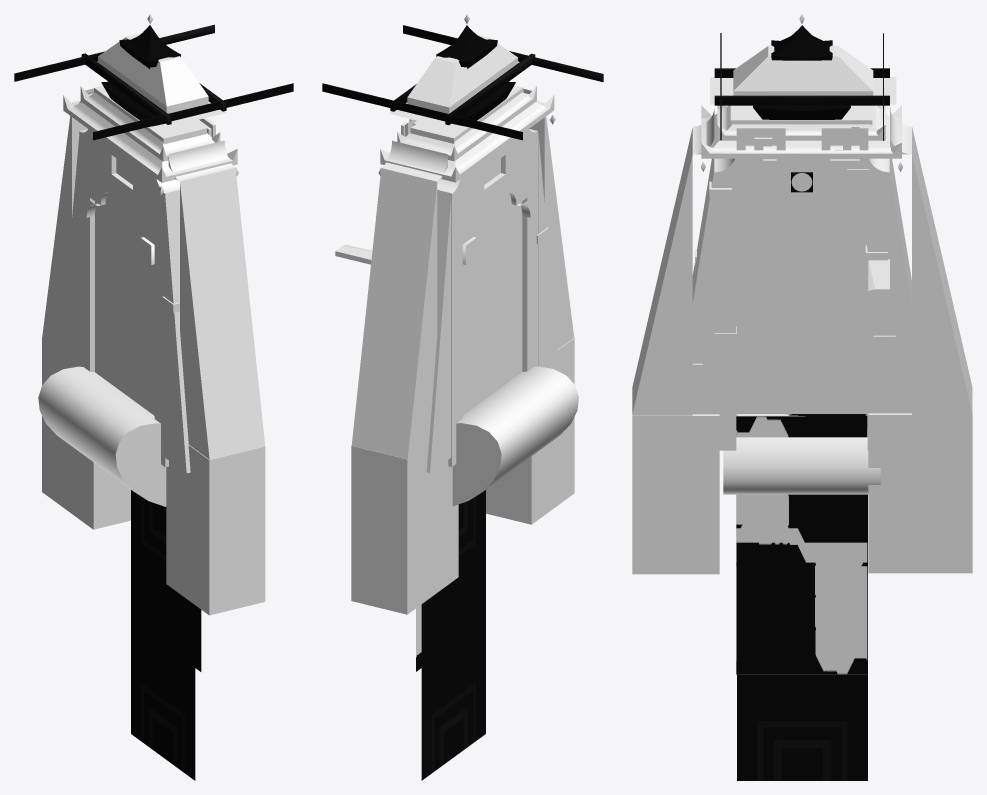
The model's file is SeaGate_ExitScene.fbx.
3 renders of one model, left to right at view 1: azimuth 30°, elevation 25°; view 2: azimuth 150°, elevation 25°; view 3: azimuth 270°, elevation 25°, orthographic.
Parts seen in each view (by area): view 1: Whitebox_Slope (×3), Whitebox_cube (×4), DepthFadeCube, WaterSurfaceDepthObject, Doors_SlidingDoor_Top (3), Doors_SlidingDoor_Top, Rooftops_B, Whitebox_Slope (1), Crenellations_Hausa_RoofWallSingle (×2), Whitebox_cube (6), Rooftops_Four_Point_Village_Middle_Wide, Rooftops_Four_Point_Village_Middle_Wide (1) (+9 smaller); view 2: Whitebox_cube (×4), Whitebox_Slope (1), DepthFadeCube, Whitebox_Slope (×3), WaterSurfaceDepthObject, Doors_SlidingDoor_Top (3), Doors_SlidingDoor_Top, Rooftops_B, Whitebox_cube (6), Crenellations_Hausa_RoofWallSingle (×2), Rooftops_Four_Point_Village_Middle_Wide, Rooftops_Four_Point_Village_Middle_Wide (1) (+9 smaller); view 3: Whitebox_cube (×4), DepthFadeCube, Whitebox_Slope (×3), Doors_SlidingDoor_Top, Doors_SlidingDoor_Top (3), Whitebox_Slope (1), Doors_SlidingDoor_Top (1), WaterSurfaceDepthObject, Rooftops_B, Whitebox_cube (6), Rooftops_Four_Point_Village_Middle_Wide, Rooftop_Rescue_Huge (+11 smaller).
Part boxes in pixels (x1,y1,x2,y2): Whitebox_Slope (×3): (59, 128, 265, 473); Whitebox_cube (×4): (42, 85, 265, 615); DepthFadeCube: (95, 158, 154, 415); WaterSurfaceDepthObject: (38, 366, 166, 506); Doors_SlidingDoor_Top (3): (131, 606, 195, 780); Doors_SlidingDoor_Top: (131, 505, 195, 653); Rooftops_B: (97, 33, 226, 126); Whitebox_Slope (1): (42, 103, 86, 350); Crenellations_Hausa_RoofWallSingle (×2): (14, 24, 293, 140); Whitebox_cube (6): (154, 186, 168, 467); Rooftops_Four_Point_Village_Middle_Wide: (63, 95, 237, 182); Rooftops_Four_Point_Village_Middle_Wide (1): (80, 86, 220, 161); Whitebox_cube (×4): (351, 85, 574, 614); Whitebox_Slope (1): (351, 168, 437, 459); DepthFadeCube: (462, 158, 522, 415); Whitebox_Slope (×3): (426, 116, 574, 472); WaterSurfaceDepthObject: (452, 366, 578, 506); Doors_SlidingDoor_Top (3): (421, 607, 485, 780); Doors_SlidingDoor_Top: (421, 490, 485, 650); Rooftops_B: (389, 35, 519, 127); Whitebox_cube (6): (522, 131, 537, 371); Crenellations_Hausa_RoofWallSingle (×2): (322, 25, 603, 140); Rooftops_Four_Point_Village_Middle_Wide: (380, 95, 554, 182); Rooftops_Four_Point_Village_Middle_Wide (1): (397, 86, 536, 161); Whitebox_cube (×4): (632, 105, 972, 574); DepthFadeCube: (736, 212, 867, 428); Whitebox_Slope (×3): (632, 128, 911, 415); Doors_SlidingDoor_Top: (736, 542, 867, 674); Doors_SlidingDoor_Top (3): (737, 649, 867, 780); Whitebox_Slope (1): (912, 127, 972, 414); Doors_SlidingDoor_Top (1): (736, 416, 867, 542); WaterSurfaceDepthObject: (723, 429, 880, 494); Rooftops_B: (710, 45, 896, 104); Whitebox_cube (6): (714, 172, 736, 450); Rooftops_Four_Point_Village_Middle_Wide: (701, 105, 901, 158); Rooftop_Rescue_Huge: (753, 25, 850, 119).
Bounding box in the file's own units: 10.8 × 38.27 × 15.54.
10 materials, 2 textured.
